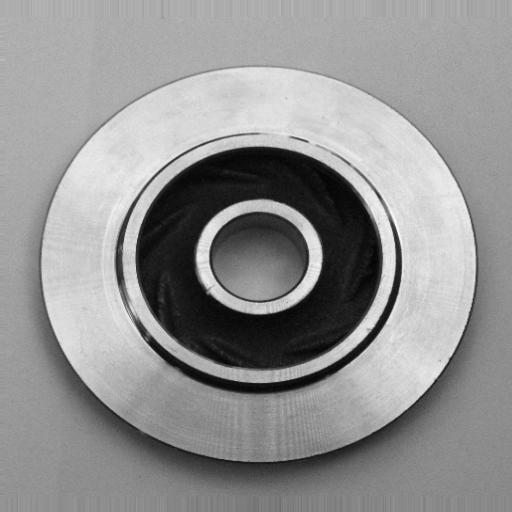scratch: (248, 121, 314, 148), (185, 271, 241, 302)
unpolished_casting: (36, 64, 482, 470)
